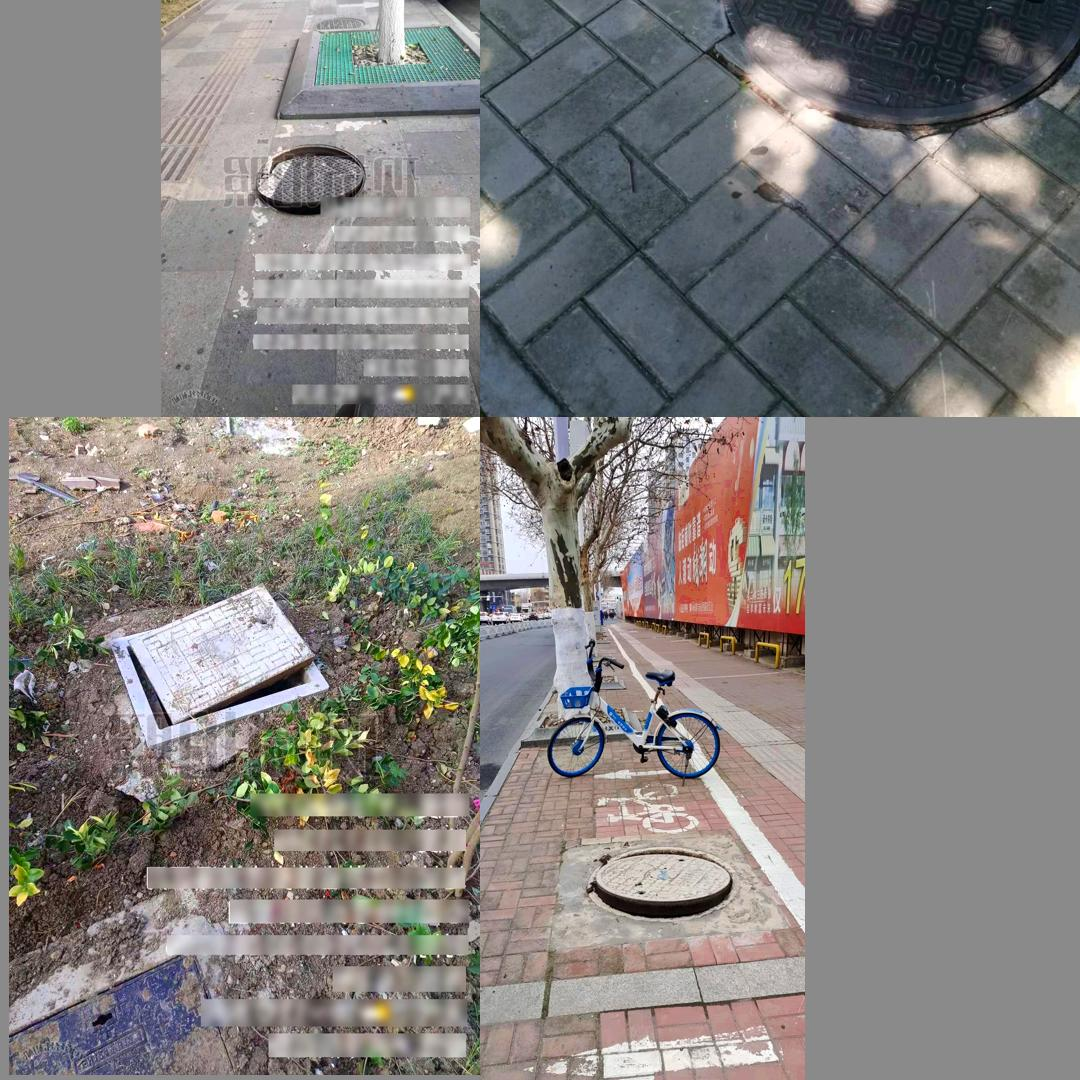uncovered: (686, 0, 1080, 125), (108, 584, 331, 744), (587, 846, 739, 925), (255, 143, 365, 216)
